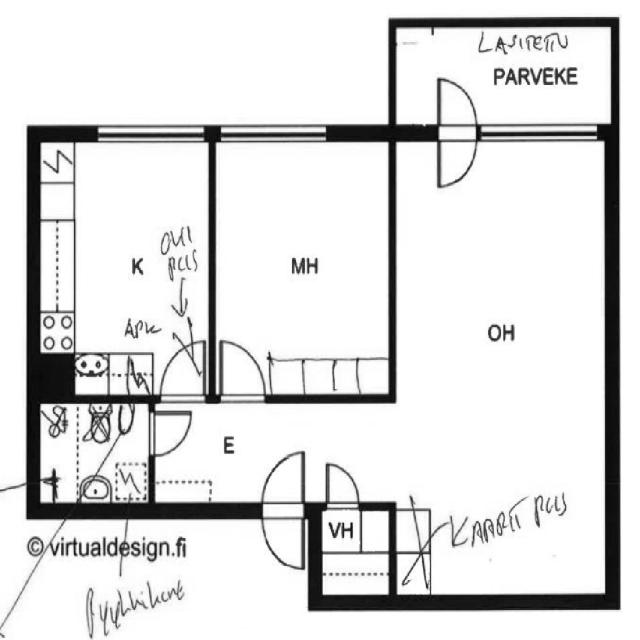door: (256, 446, 310, 574), (432, 74, 481, 191), (150, 354, 203, 462), (213, 336, 268, 406), (156, 349, 208, 408), (145, 404, 196, 460), (319, 457, 367, 513)
window: (88, 115, 210, 152), (215, 116, 335, 151), (483, 118, 602, 149)
zone: (392, 131, 616, 597), (210, 130, 397, 394), (35, 132, 216, 396), (395, 25, 617, 127), (32, 392, 154, 511), (316, 505, 392, 603), (318, 507, 363, 550)
